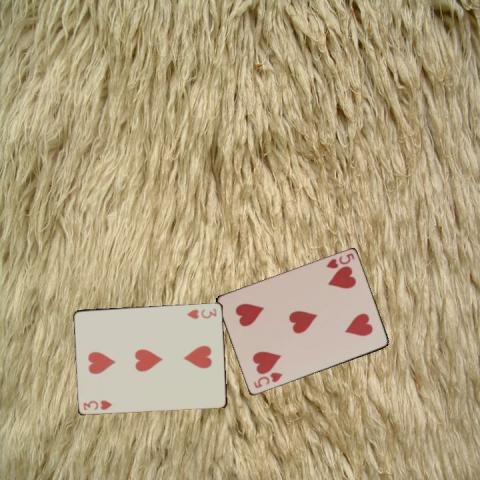3h: (184, 305, 218, 320), (81, 398, 113, 411)
5h: (251, 369, 284, 390), (323, 250, 356, 270)
